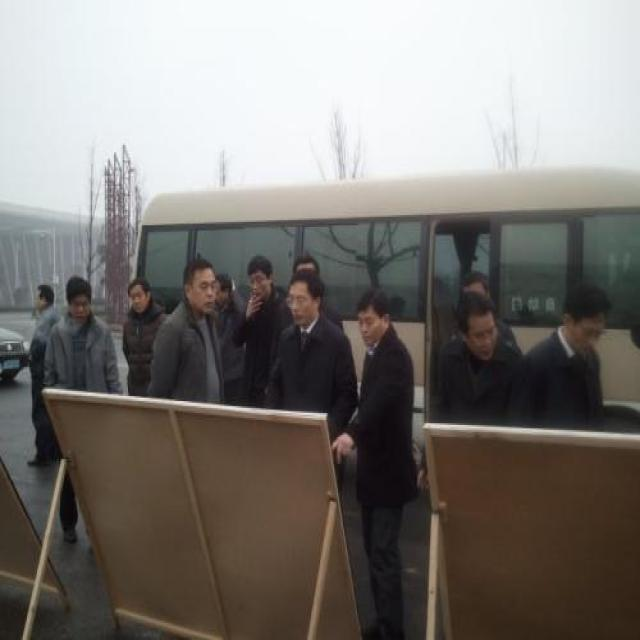no-helmet: (560, 273, 614, 350), (456, 280, 500, 358), (287, 261, 324, 326), (58, 268, 96, 328), (183, 256, 220, 314), (356, 286, 392, 344), (124, 272, 155, 322), (243, 256, 273, 304), (32, 276, 55, 316)
